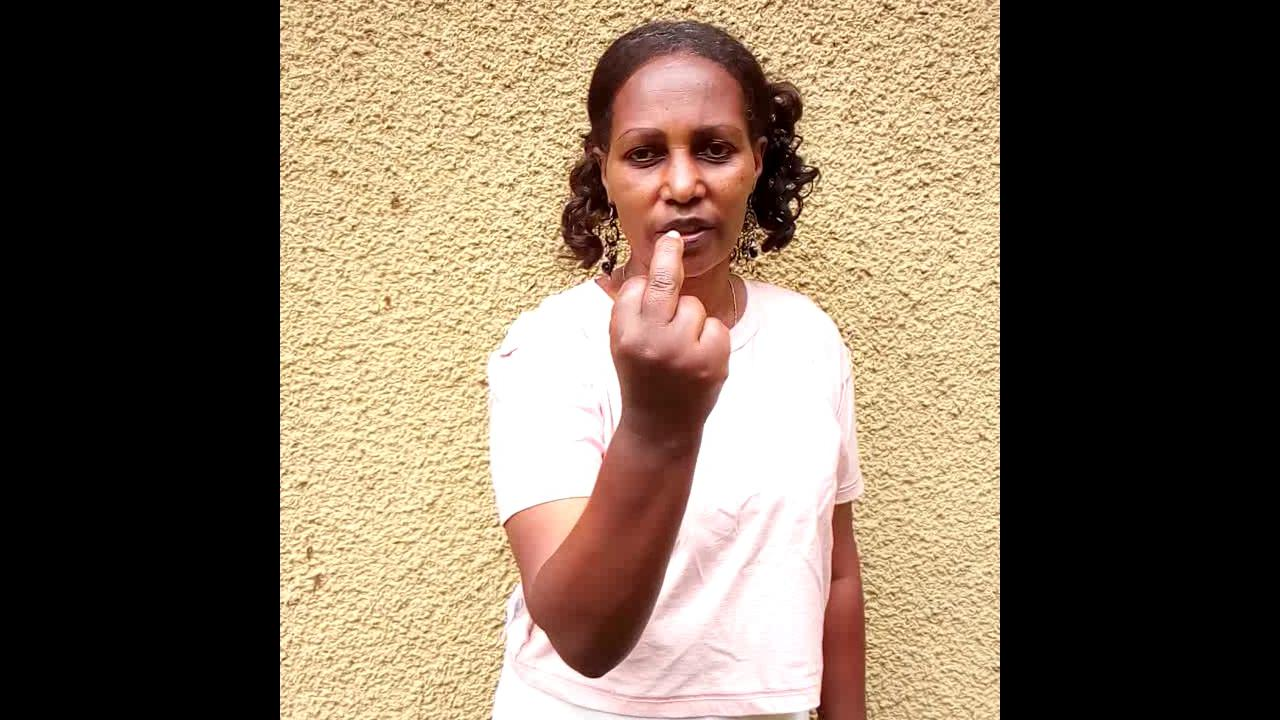CHE: (604, 231, 732, 549)
